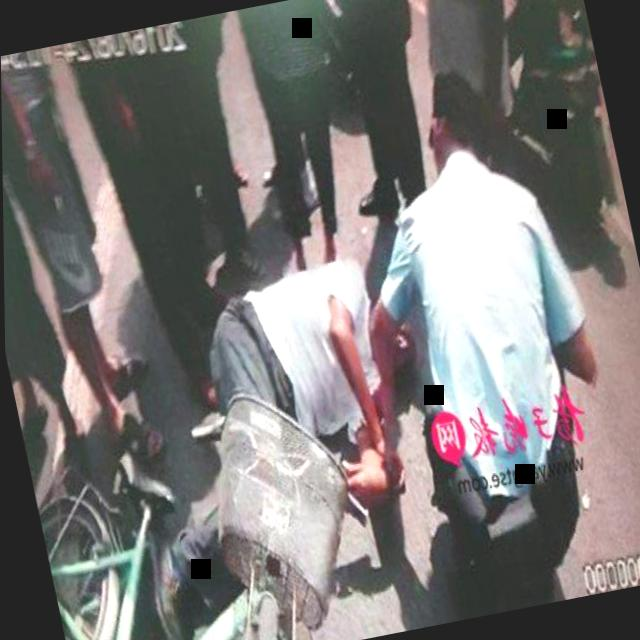Fall-Detected: (74, 218, 456, 640)
